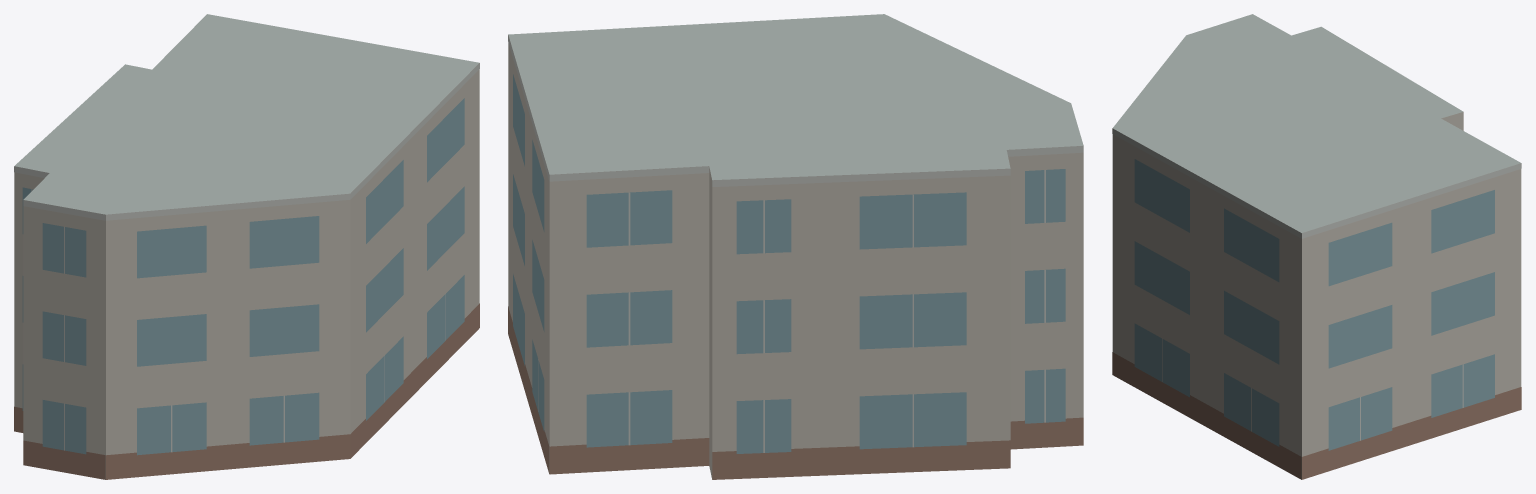
Rendered from survey-upis-32511119.glb.
3 renders of one model, left to right at view 1: azimuth 30°, elevation 25°; view 2: azimuth 150°, elevation 25°; view 3: azimuth 270°, elevation 25°, orthographic. The views are drawn at different scales.
Visible parts, largest first — view 1: survey-upis-32511119.tmp; view 2: survey-upis-32511119.tmp; view 3: survey-upis-32511119.tmp.
Part boxes in pixels (x1,y1,x2,y2): survey-upis-32511119.tmp: (14,14,479,479); survey-upis-32511119.tmp: (508,14,1083,479); survey-upis-32511119.tmp: (1112,14,1521,479).
Size of the model in its own units: 20.01 by 10.5 by 15.78.
